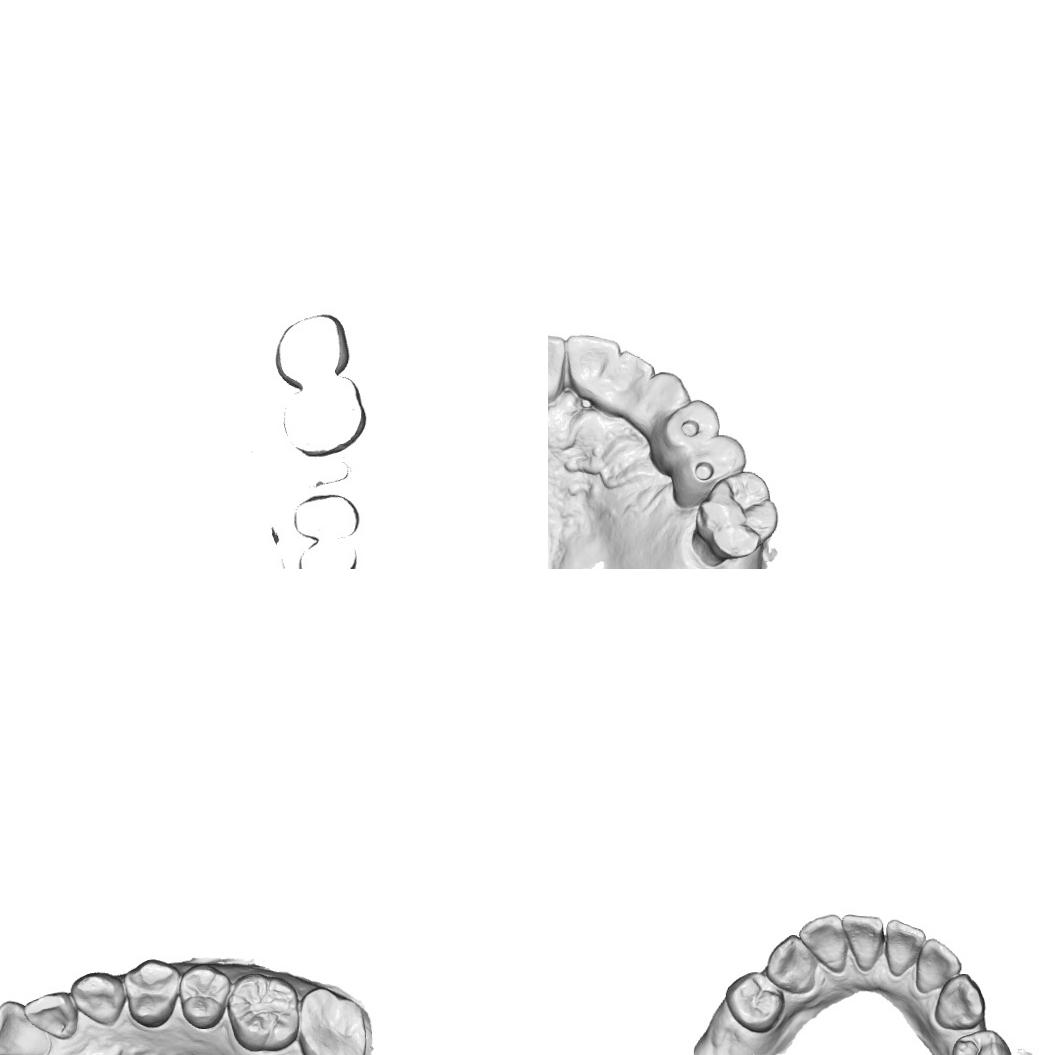canine: (764, 933, 818, 994), (68, 970, 126, 1026), (932, 972, 987, 1031), (636, 370, 693, 426)
incisor: (563, 334, 623, 400), (797, 912, 845, 974), (0, 999, 51, 1055), (22, 991, 80, 1040), (914, 937, 962, 995), (609, 348, 657, 405), (840, 914, 885, 971), (884, 918, 926, 978), (548, 332, 569, 407)
molar: (692, 468, 780, 561), (224, 972, 300, 1054), (295, 984, 368, 1055)
premolar: (122, 957, 182, 1030), (680, 432, 748, 494), (724, 970, 786, 1034), (176, 962, 232, 1032), (656, 397, 722, 456), (949, 1028, 1013, 1055)
